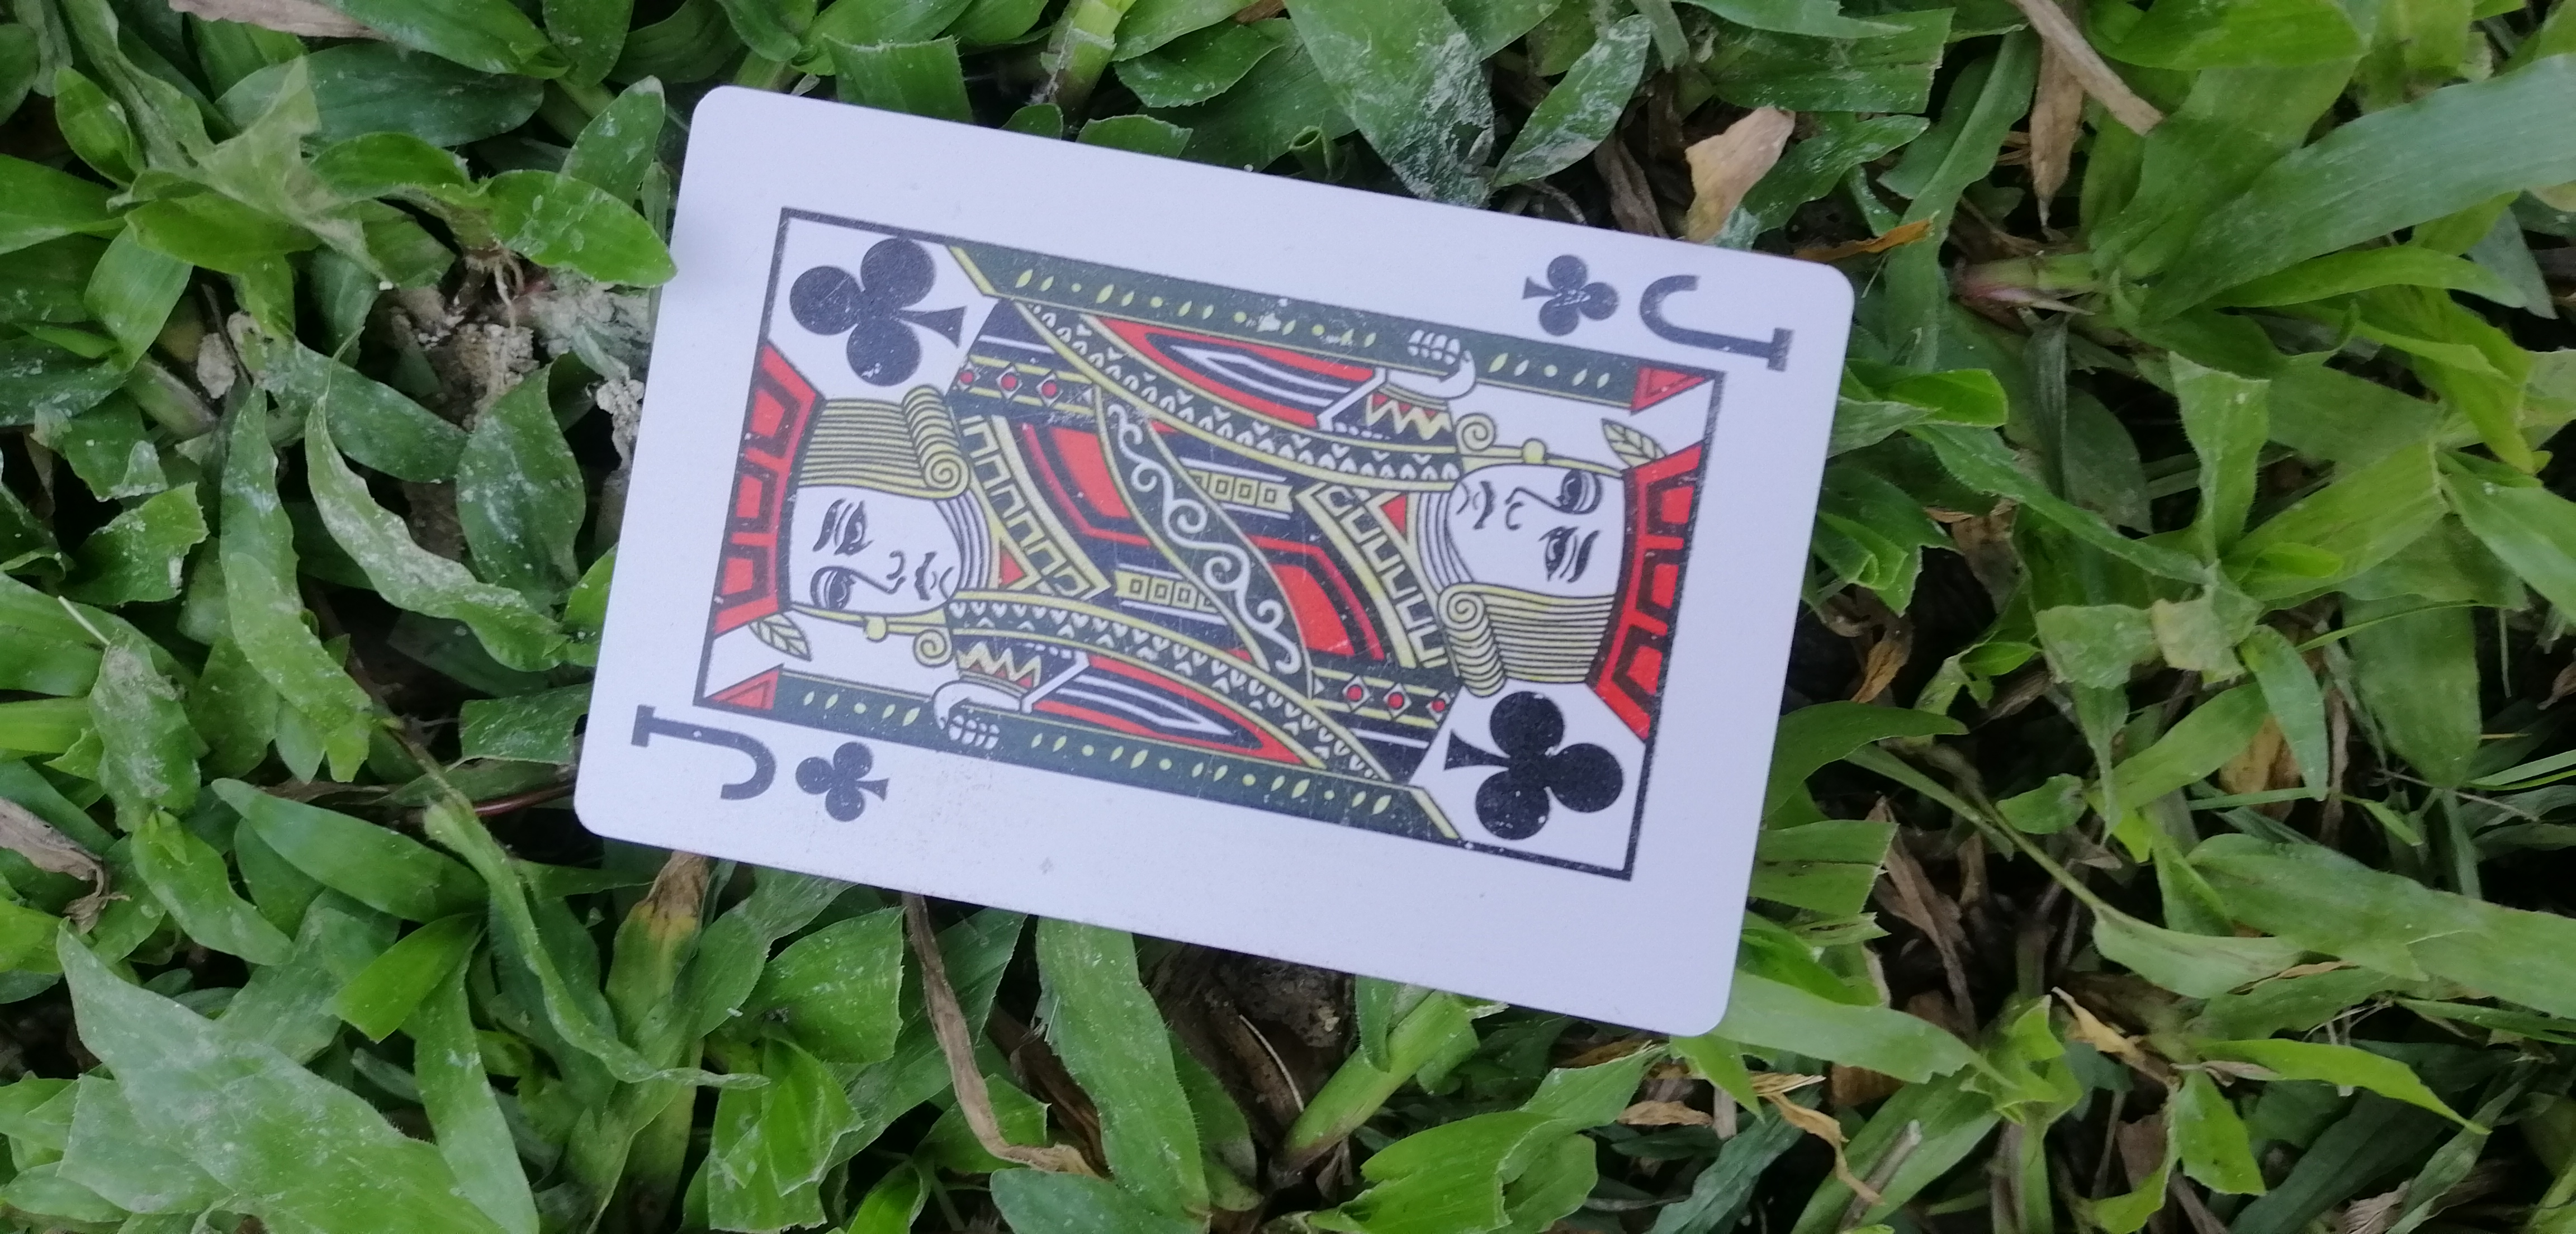jack: (559, 81, 1865, 1057)
